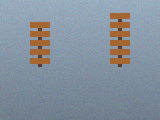insulator: (108, 11, 132, 68), (28, 20, 52, 68)
